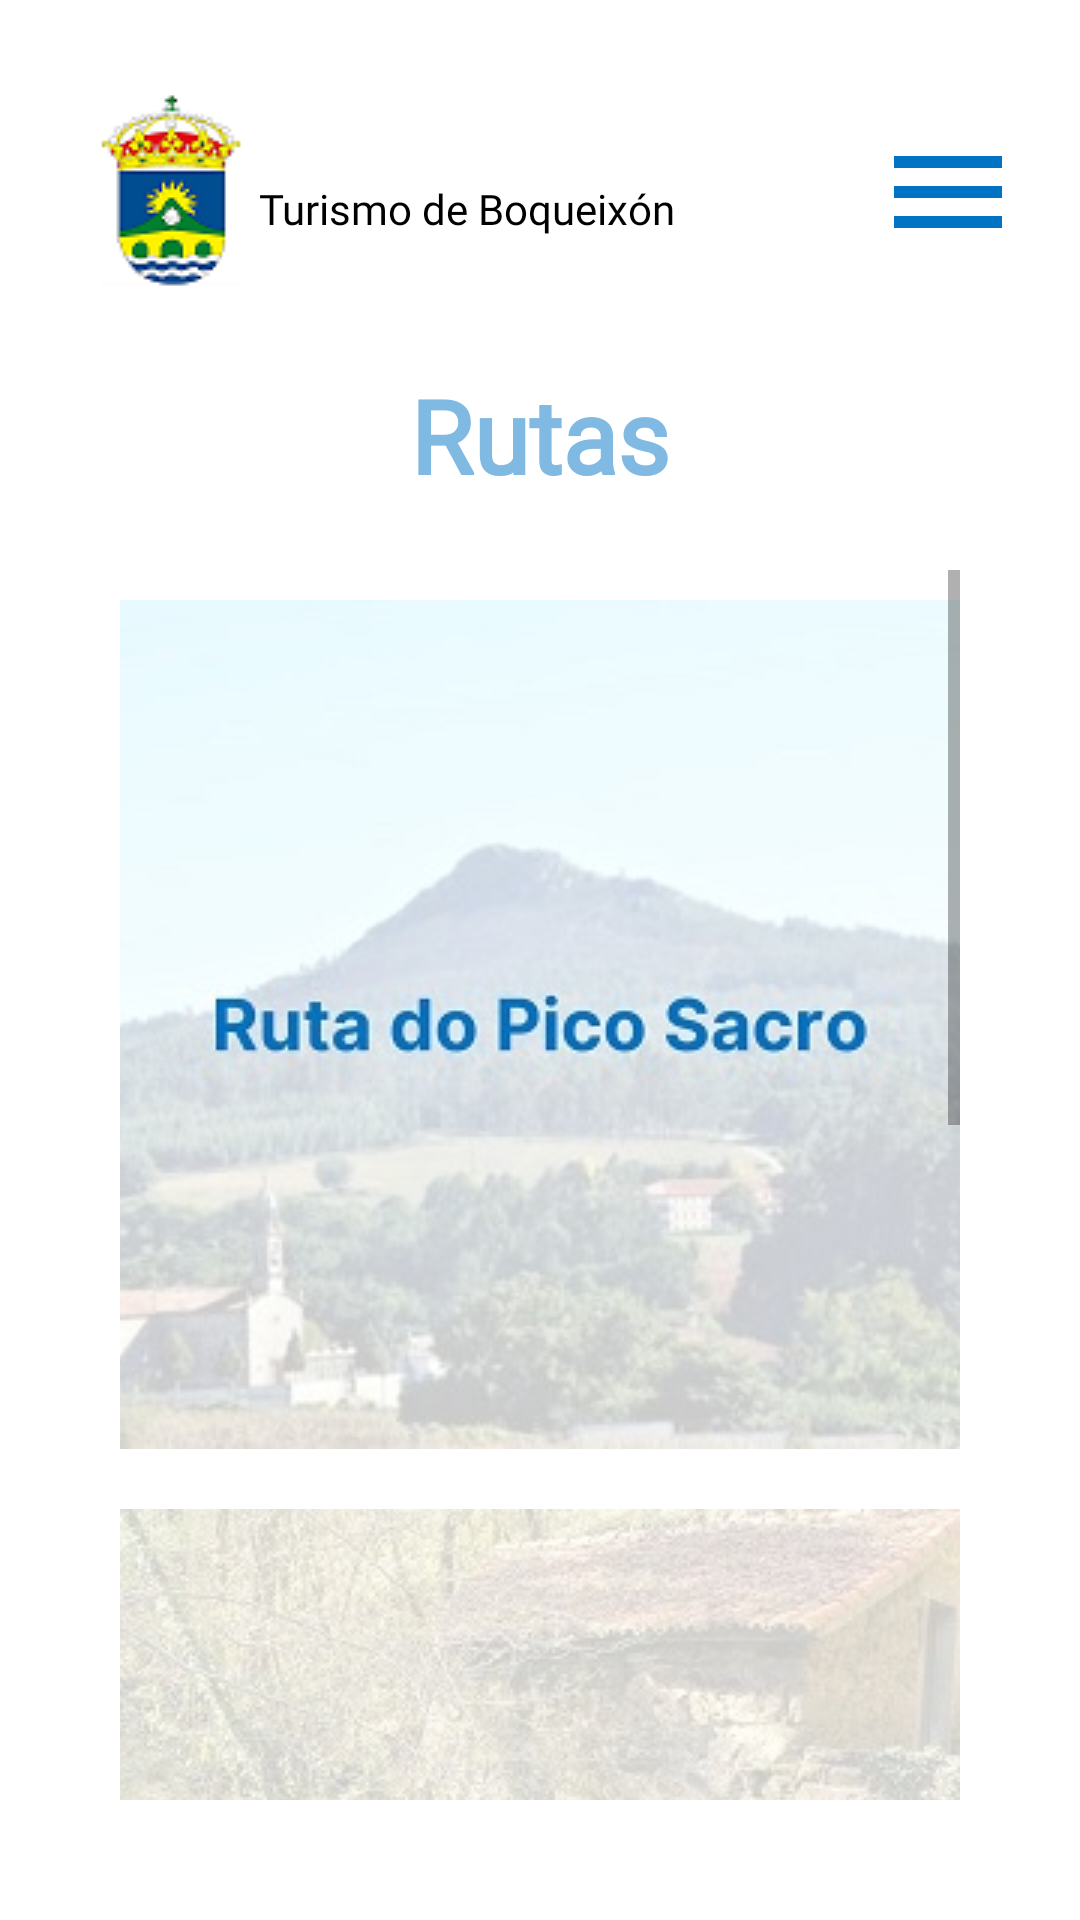

Named icons in this screenshot (1080*1920) and their bounding boxes, (x1, y1, x2, y2):
hamburguesa: (894, 156, 1002, 228)
